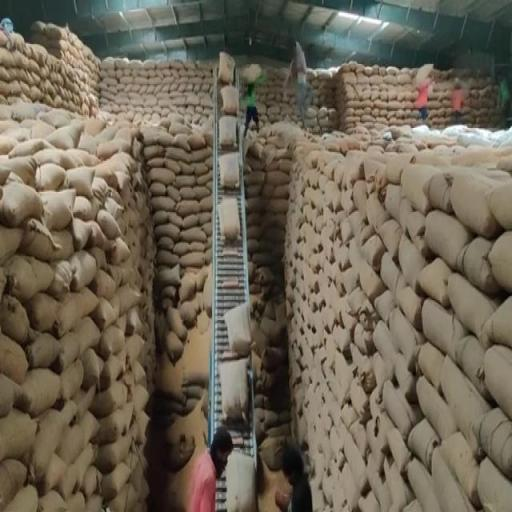c-belt-sack-count: (220, 358, 248, 422), (225, 302, 250, 354), (220, 198, 239, 240), (220, 153, 238, 188), (220, 115, 236, 146)
